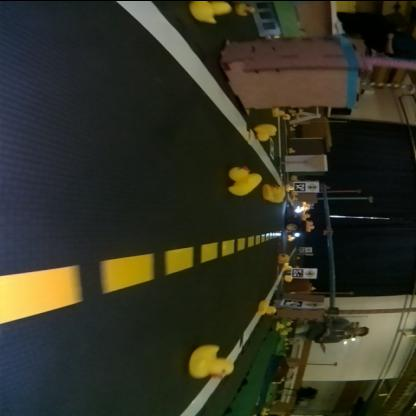Duckie: (188, 344, 235, 378), (228, 164, 262, 192), (191, 1, 229, 22), (256, 122, 278, 139), (262, 184, 284, 198), (259, 299, 277, 313), (236, 2, 255, 15), (273, 106, 285, 115), (280, 252, 289, 262), (286, 274, 294, 280), (288, 146, 296, 152), (285, 262, 292, 268)
QR code: (295, 180, 307, 190), (285, 299, 304, 305), (292, 267, 304, 276)
Signal sign: (308, 181, 320, 189)
